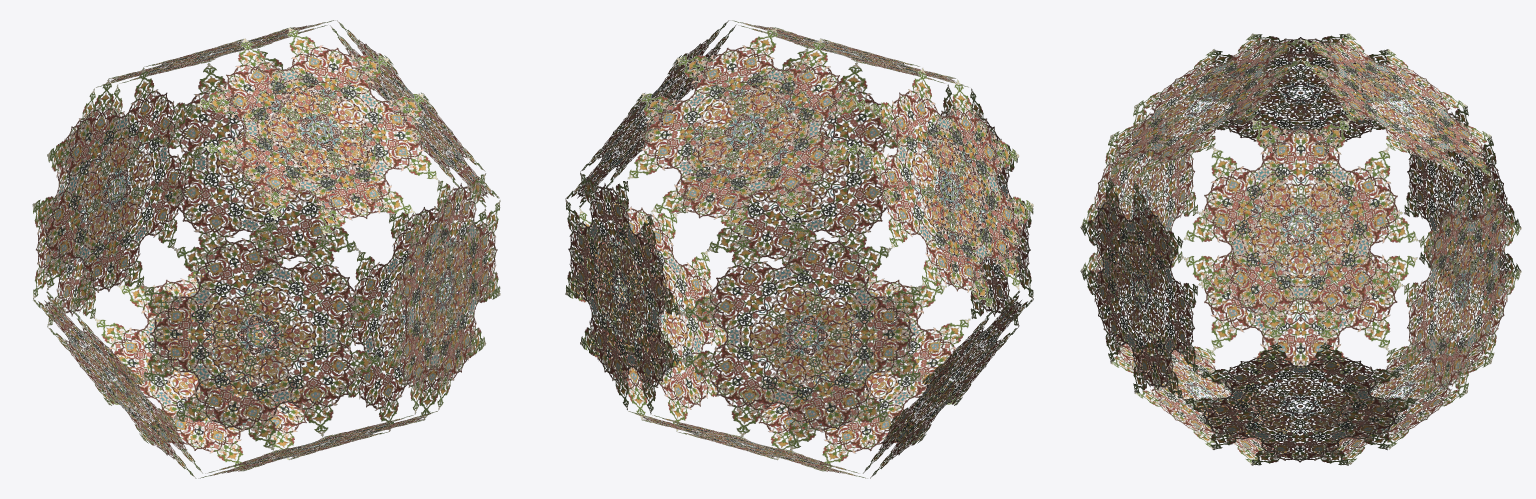
The model's file is Dodecahedron10.obj.
3 renders of one model, left to right at view 1: azimuth 30°, elevation 25°; view 2: azimuth 150°, elevation 25°; view 3: azimuth 270°, elevation 25°, orthographic. The views are drawn at different scales.
Bounding box in the file's own units: 2.62 × 2.62 × 2.62.
Materials: 1 (1 with a texture image).
